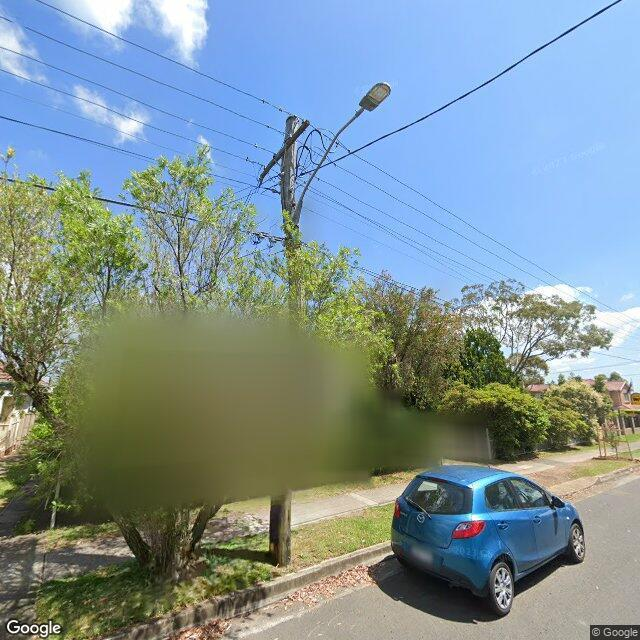crossarm: (258, 120, 311, 182)
streetlight: (292, 82, 392, 226)
timber-pole: (268, 113, 303, 565)
